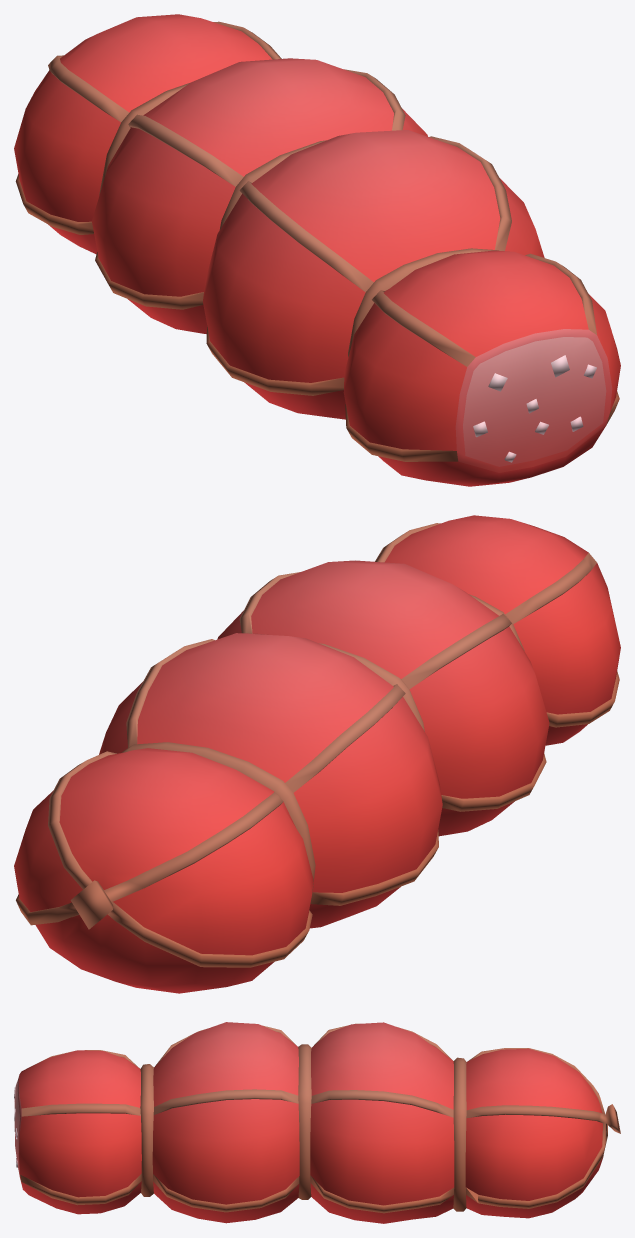
File: sasuage_001.fbx
3 renders of one model, top to bottom at view 1: azimuth 30°, elevation 25°; view 2: azimuth 150°, elevation 25°; view 3: azimuth 270°, elevation 25°, orthographic. The views are drawn at different scales.
Parts seen in each view (by area): view 1: sasuage_001; view 2: sasuage_001; view 3: sasuage_001.
Part boxes in pixels (x1=…): sasuage_001: x1=14, y1=14, x2=620, y2=486; sasuage_001: x1=14, y1=515, x2=620, y2=993; sasuage_001: x1=14, y1=1022, x2=620, y2=1223.
Size of the model in its own units: 11.12 by 27.09 by 8.34.
